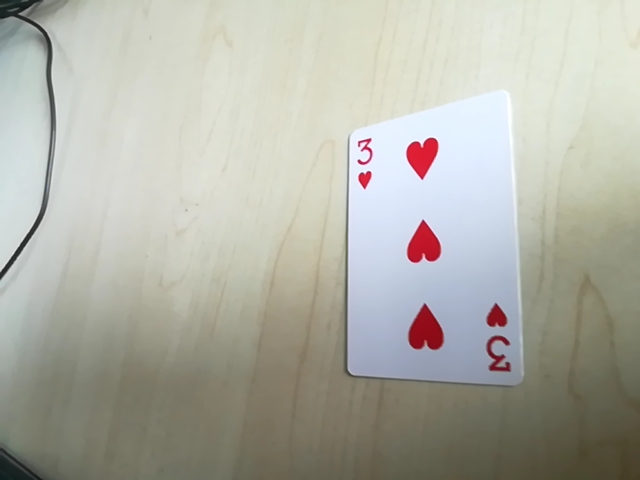hx 3: (478, 325, 520, 378), (345, 129, 379, 190)
